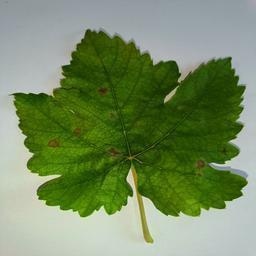Powdery-Mildew: (46, 121, 90, 154), (171, 190, 193, 210), (102, 143, 119, 160), (97, 82, 113, 99), (194, 160, 211, 176)
